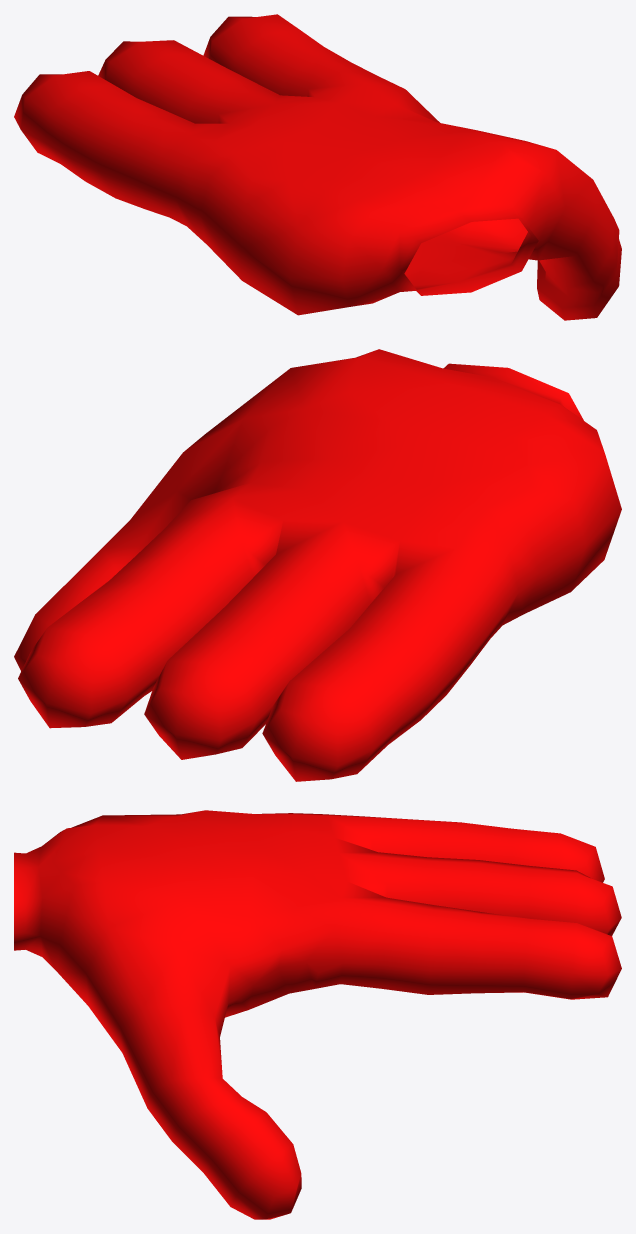
Rendered from Open_Hand_Left.dae.
The picture shows the model from 3 angles, top to bottom: view 1: azimuth 30°, elevation 25°; view 2: azimuth 150°, elevation 25°; view 3: azimuth 270°, elevation 25°; orthographic projection. The views are drawn at different scales.
Parts seen in each view (by area): view 1: openHand; view 2: openHand; view 3: openHand.
Part boxes in pixels (<box>): openHand: <box>14,14,621,320</box>; openHand: <box>14,349,621,781</box>; openHand: <box>14,810,621,1219</box>.
Bounding box in the file's own units: 10.33 × 12.66 × 6.09.
